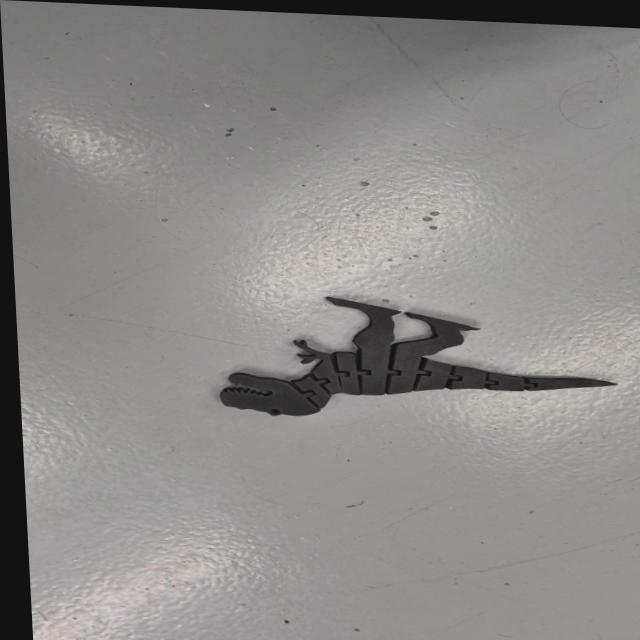dino: (213, 291, 622, 433)
